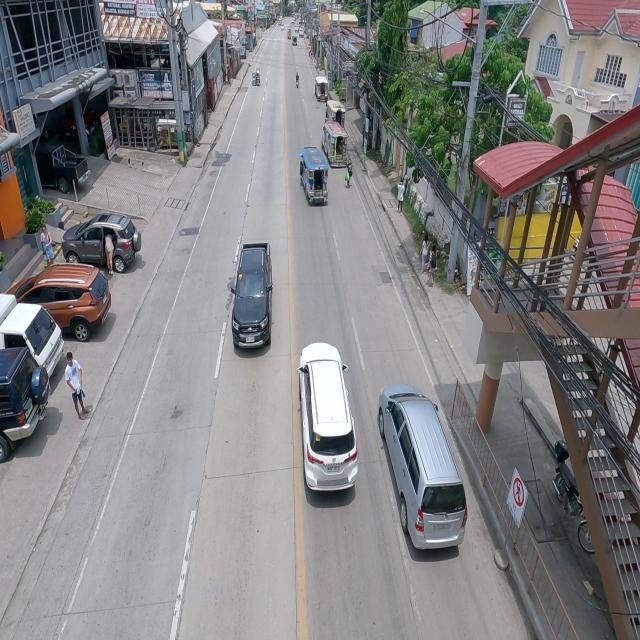Truck: (231, 240, 273, 357)
